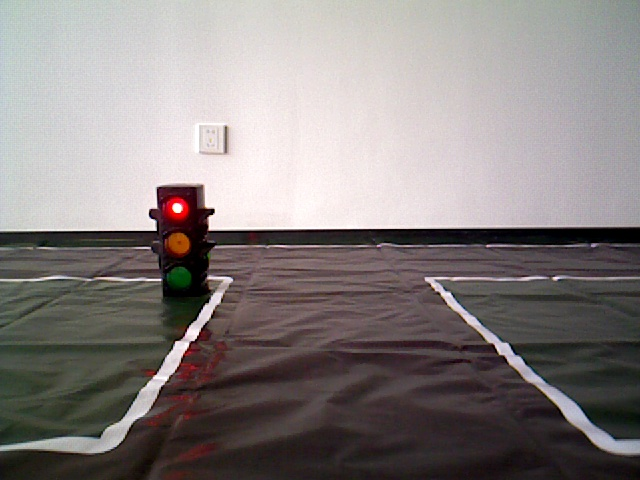red: (158, 189, 203, 298)
